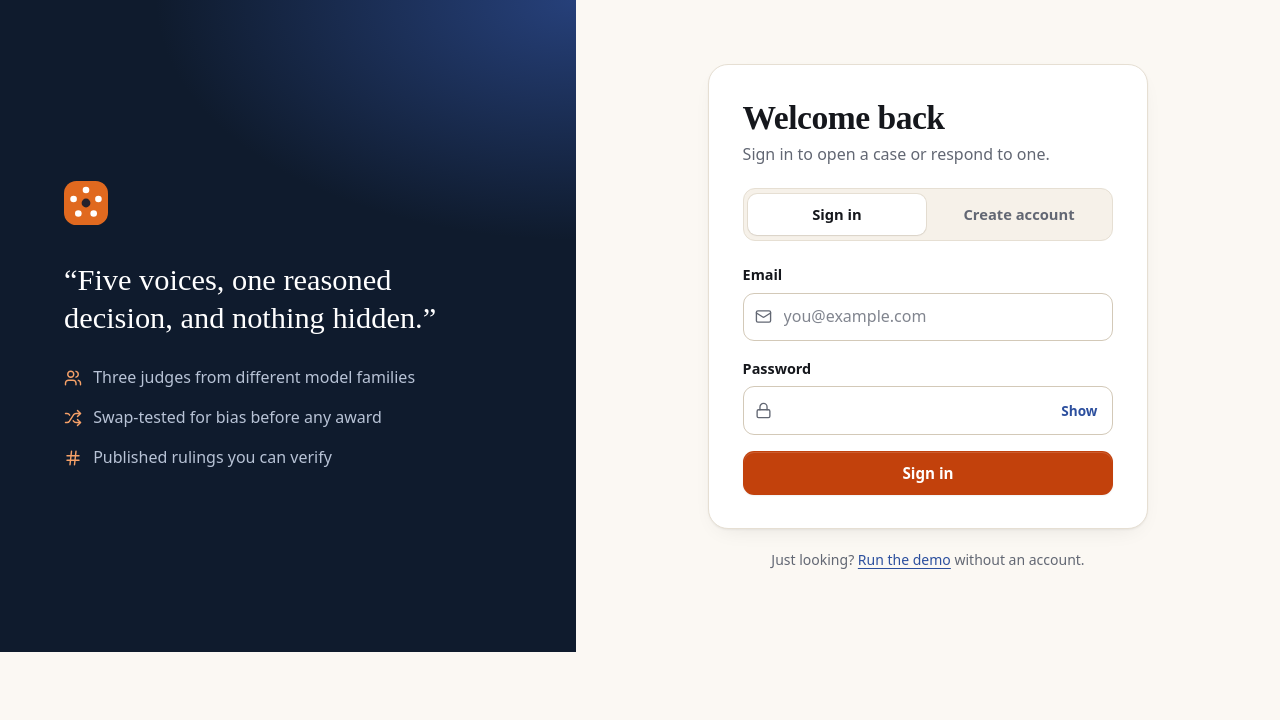
Scenario: sign in › shows the mapped Cognito error
Type "riya@example.com" into the field with test id "email" at point(928, 317), box [743, 292, 1113, 341]
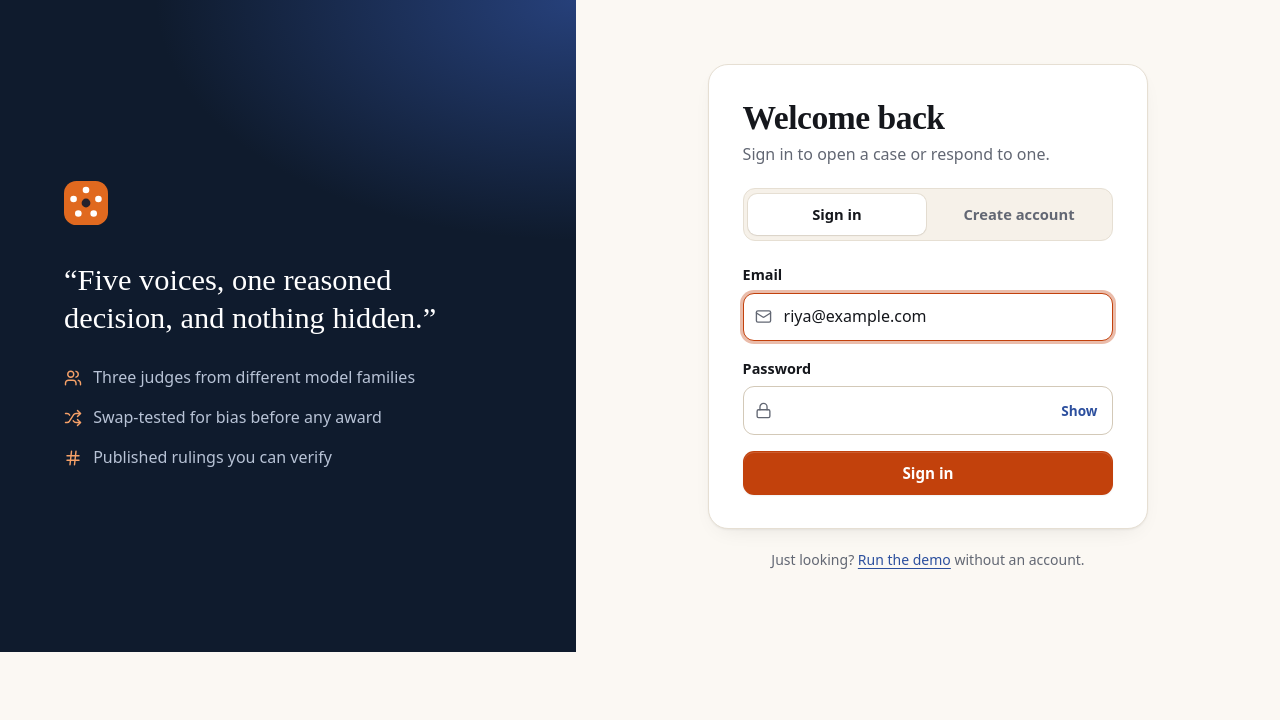
Type "nope" into the password field with test id "password" at point(928, 410), box [743, 386, 1113, 435]
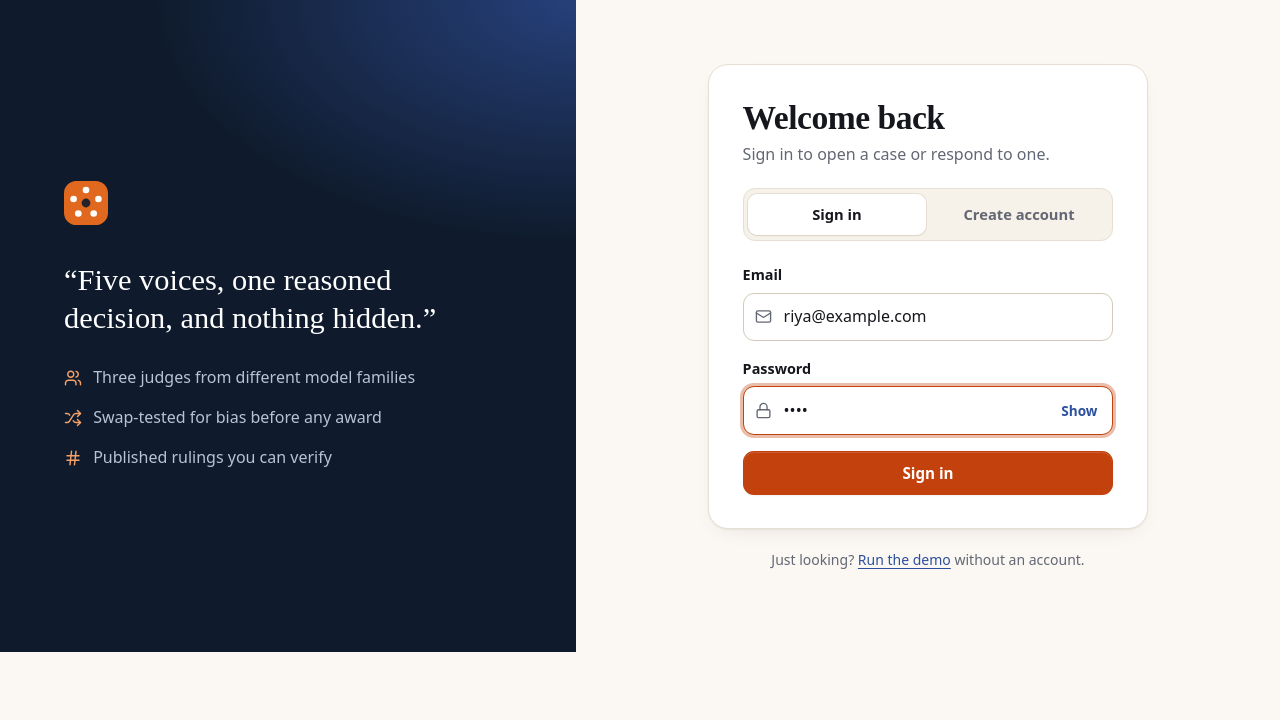
Click the button with test id "auth-submit" at point(928, 473), box [743, 451, 1113, 495]
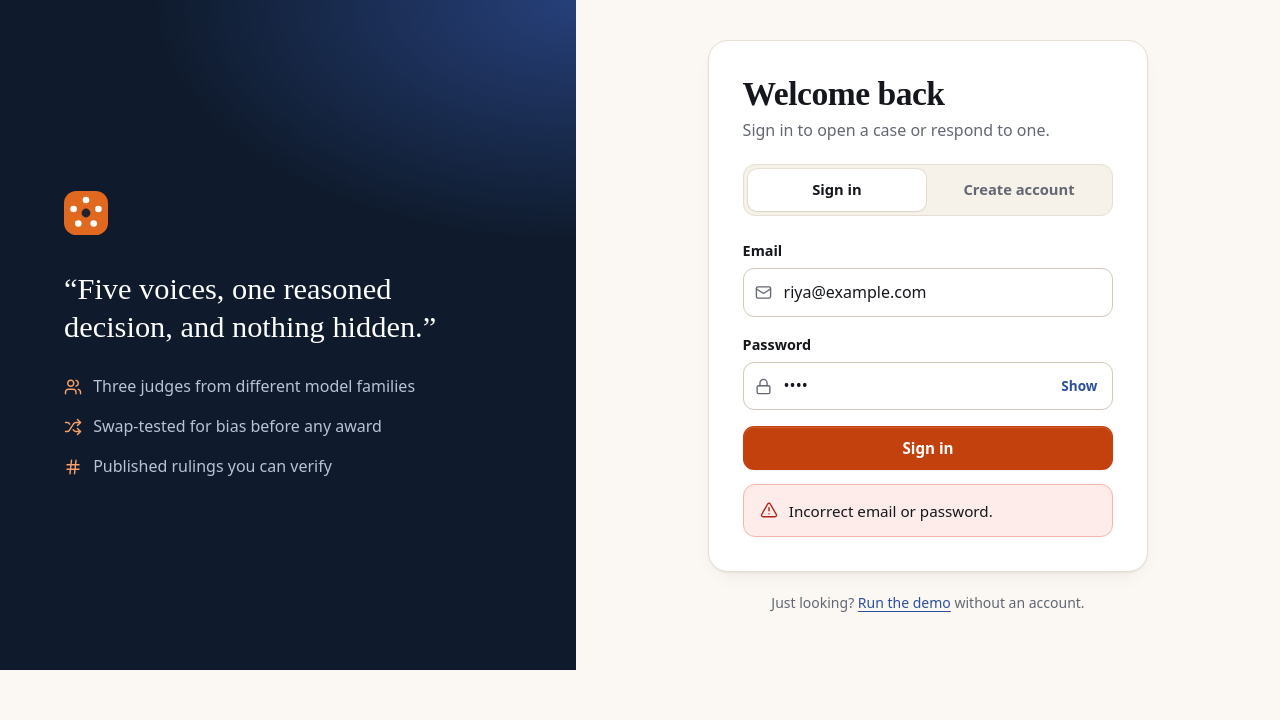
expect the text "Incorrect email or password." is shown: met, box [789, 500, 993, 520]
